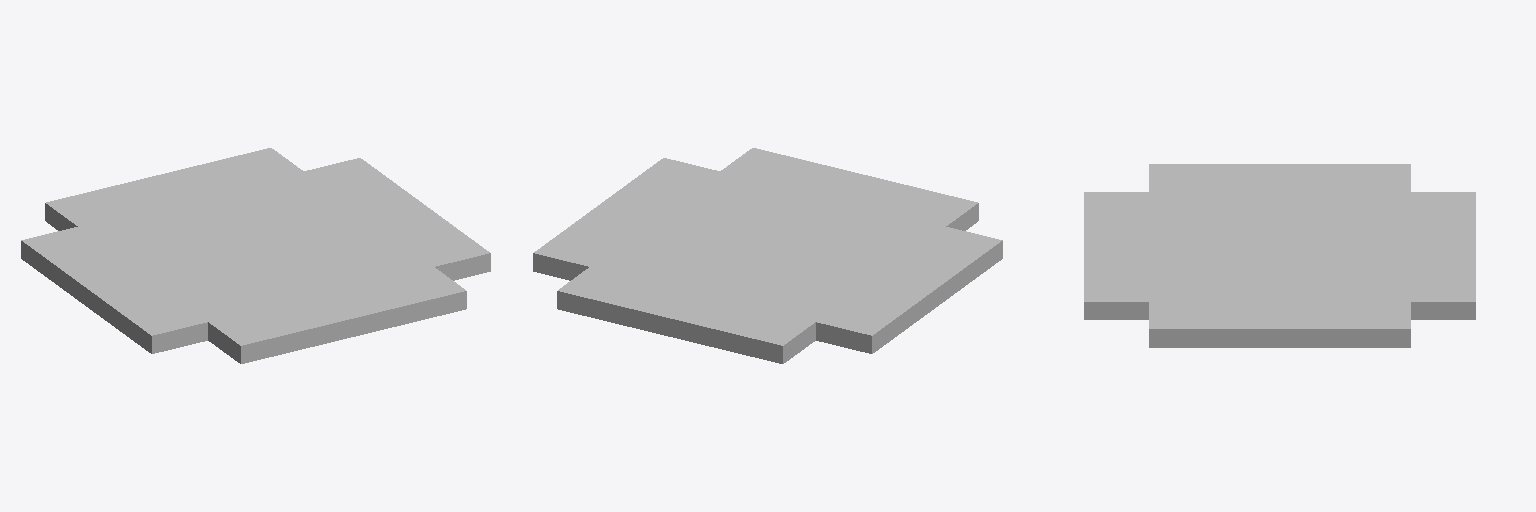
File: barrier_hole_large.obj
3 views of the same model, side by side, from view 1: azimuth 30°, elevation 25°; view 2: azimuth 150°, elevation 25°; view 3: azimuth 270°, elevation 25° (orthographic).
Visible parts, largest first — view 1: large_frame_geo_lrg; view 2: large_frame_geo_lrg; view 3: large_frame_geo_lrg.
Boxes of the visible parts, x1=… form: large_frame_geo_lrg: x1=21, y1=148, x2=490, y2=363; large_frame_geo_lrg: x1=533, y1=148, x2=1002, y2=363; large_frame_geo_lrg: x1=1084, y1=164, x2=1475, y2=347.
Bounding box in the file's own units: 1.5 × 0.0781 × 1.5.